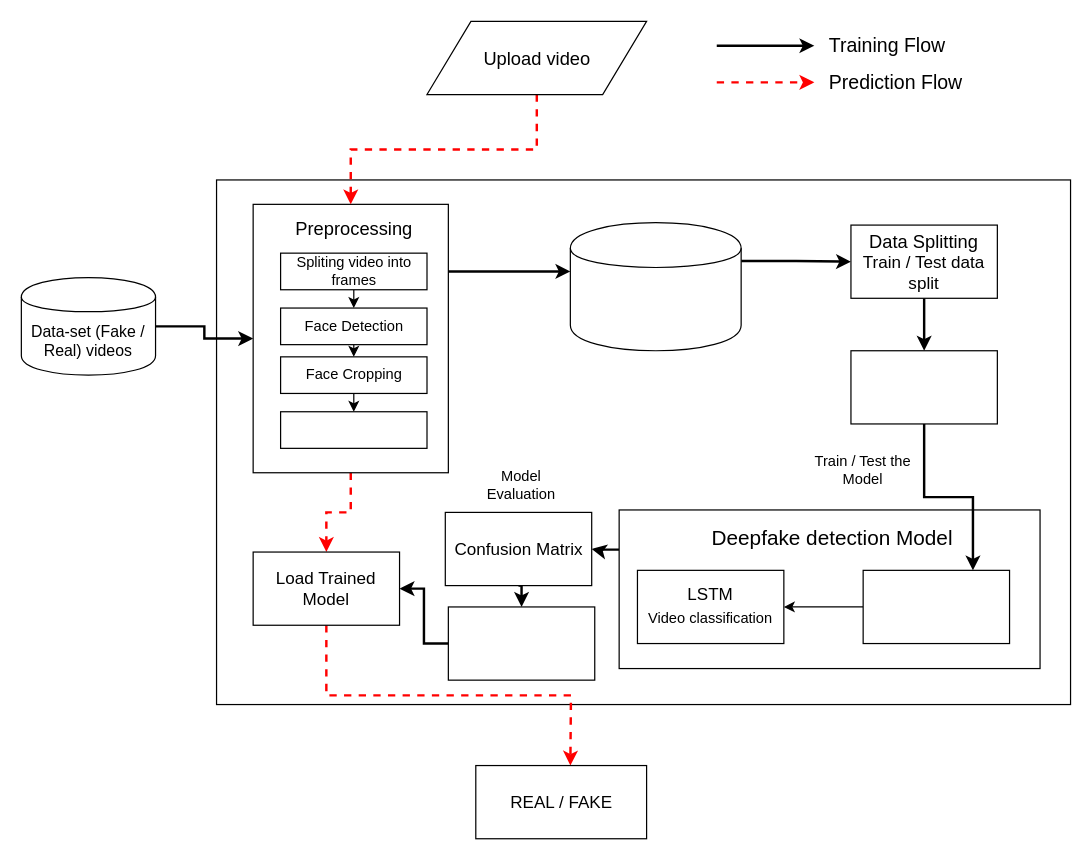
Some shapes in this 1092 by 860 pixel diagram are drawn without their labels. Each missing label, with the centre of its shape:
"Data Loader Loading the Train videos and labels" goes at point 923,387.
"Export Trained Model" goes at point 521,643.
"Processed Data-set Contains only face video" goes at point 655,286.
"ResNext Feature extraction" goes at point 936,606.
"Saving the face cropped video" goes at point 353,429.
